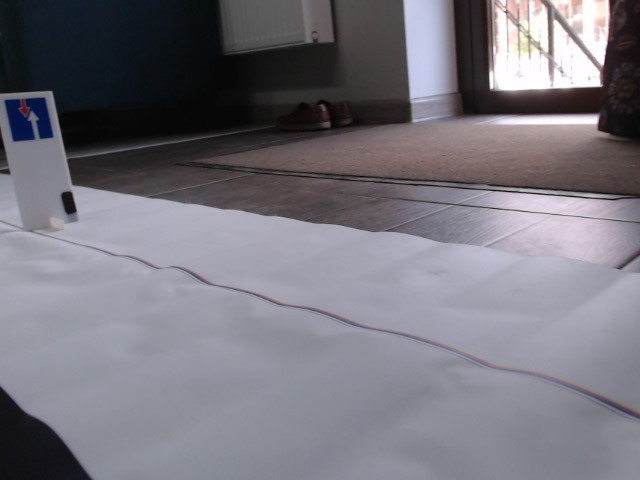priority_movement: (3, 97, 56, 142)
